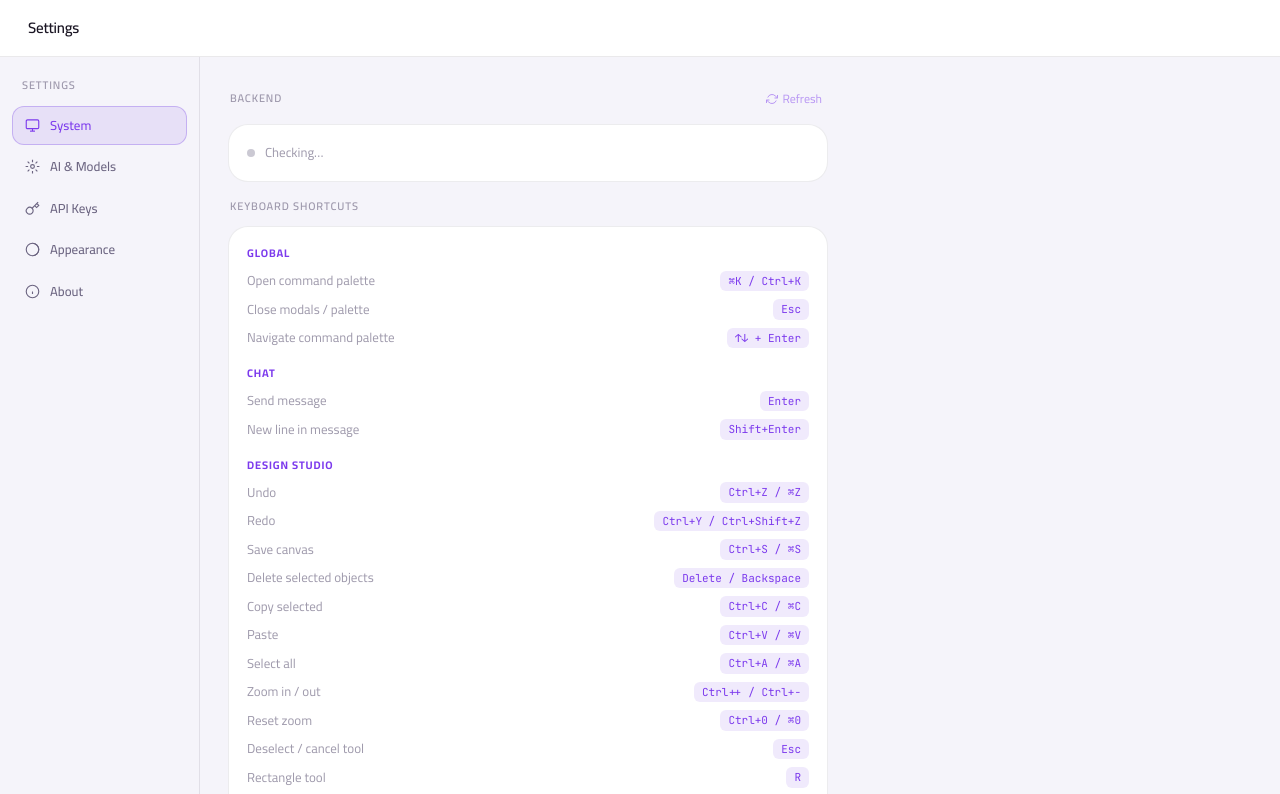
Test case: ApiKeysTab — create key › shows raw key after creation with Copy button
Click the button "API Keys": [61, 208] box [25,196,98,220]
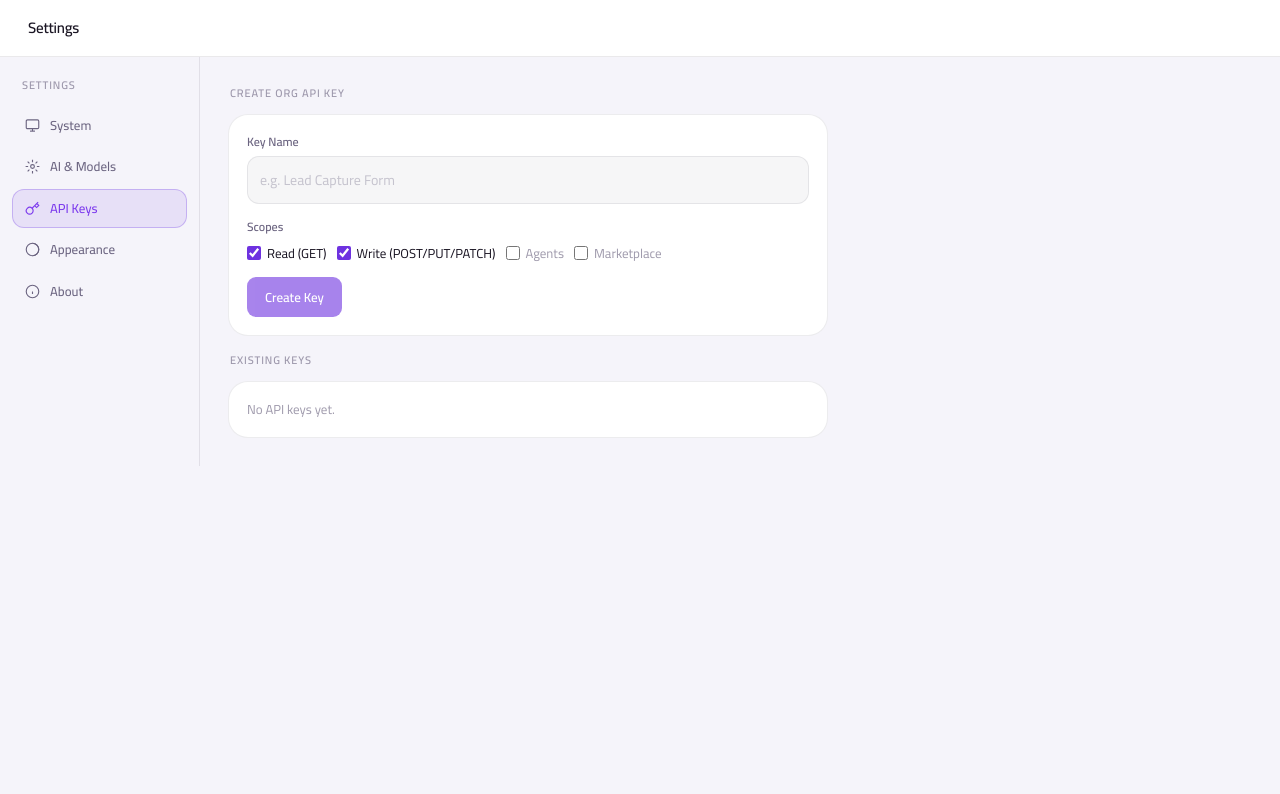
Expected: the field labelled "Key Name" is shown
In the field labelled "Key Name": [528, 180] box [247,156,809,204], type "ShowKey"
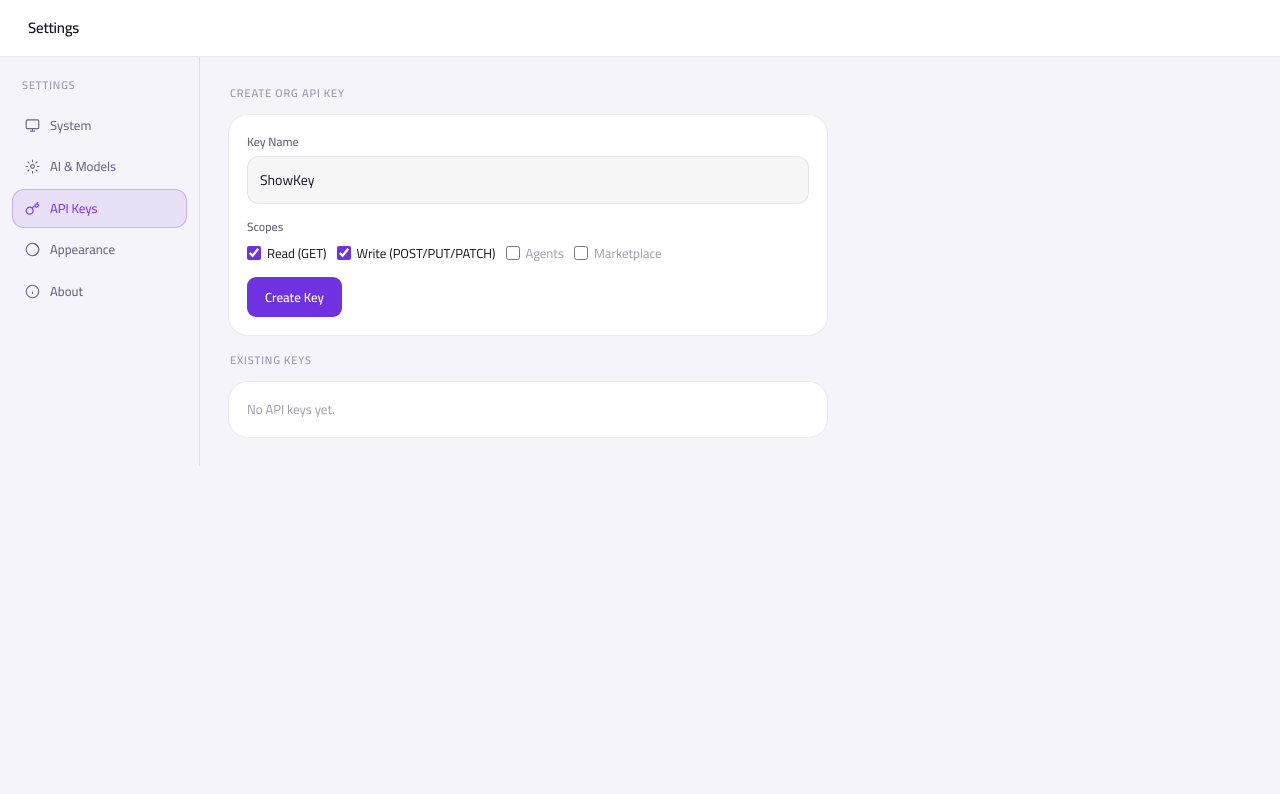
Click the button "Create Key": [294, 297] box [247,277,342,317]
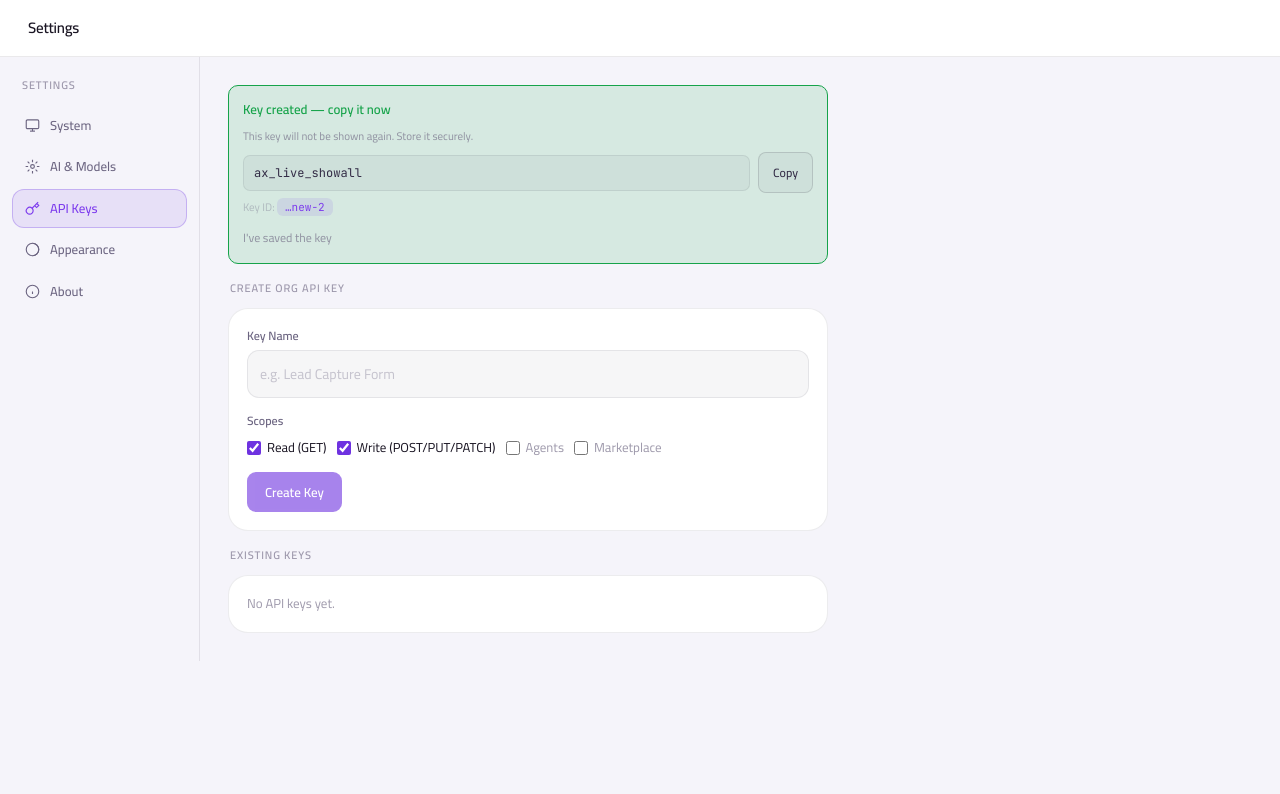
Expected: the text "ax_live_showall" is shown, [243,154,750,190]
Expected: the button "Copy" is shown, [758,152,813,193]
